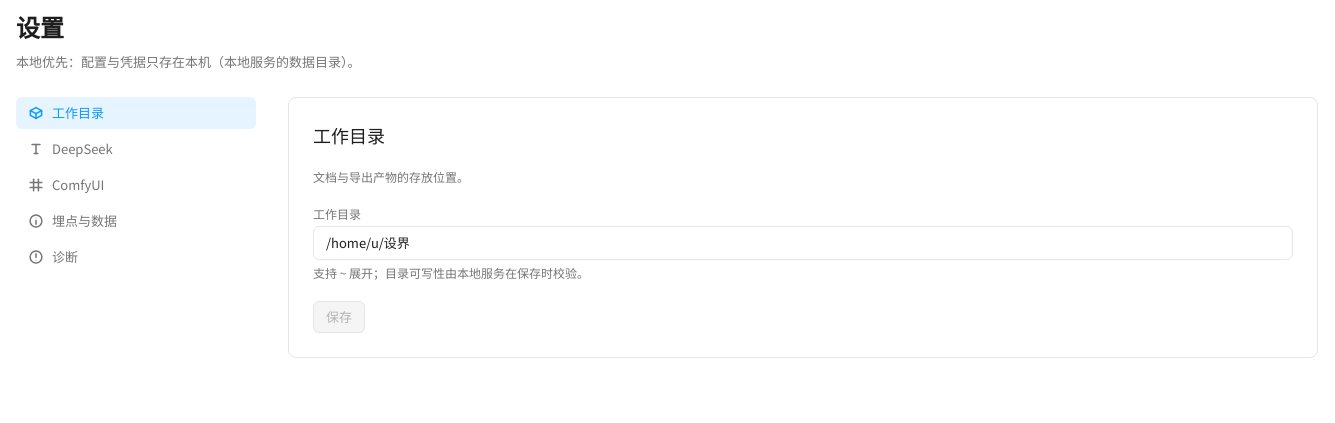
Test: 设置页 · 工作目录与保存态 › 保存失败：原样展示 daemon 文案，重试成功后转已保存
The image size is (1335, 423).
Note: 先制造改动（无改动时保存按钮禁用），再触发失败 → 重试
Type "~/x" into the field labelled "工作目录". click: (803, 243)
box: [326,227,1280,259]
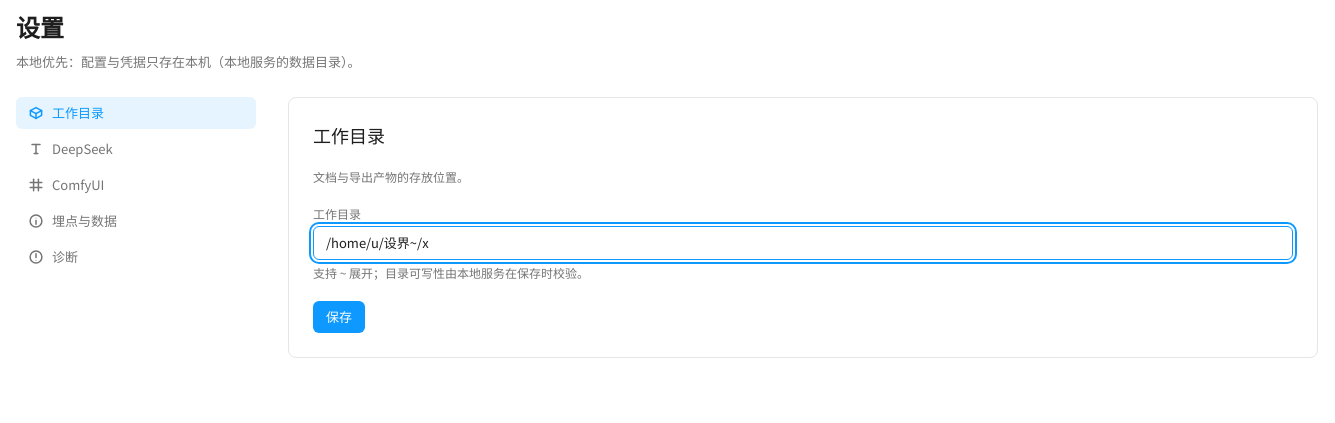
Click the button "保存". click: (339, 317)
box: [313,301,365,333]
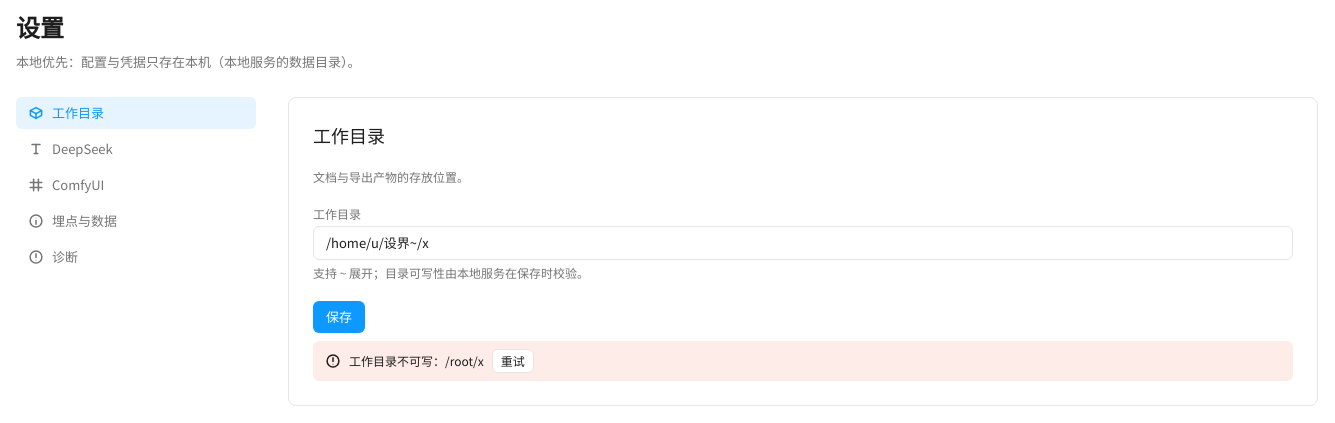
expect the text "工作目录不可写：/root/x" is shown: met, box [349,352,484,369]
Click the button "重试". click: (513, 361)
box: [492,349,534,373]
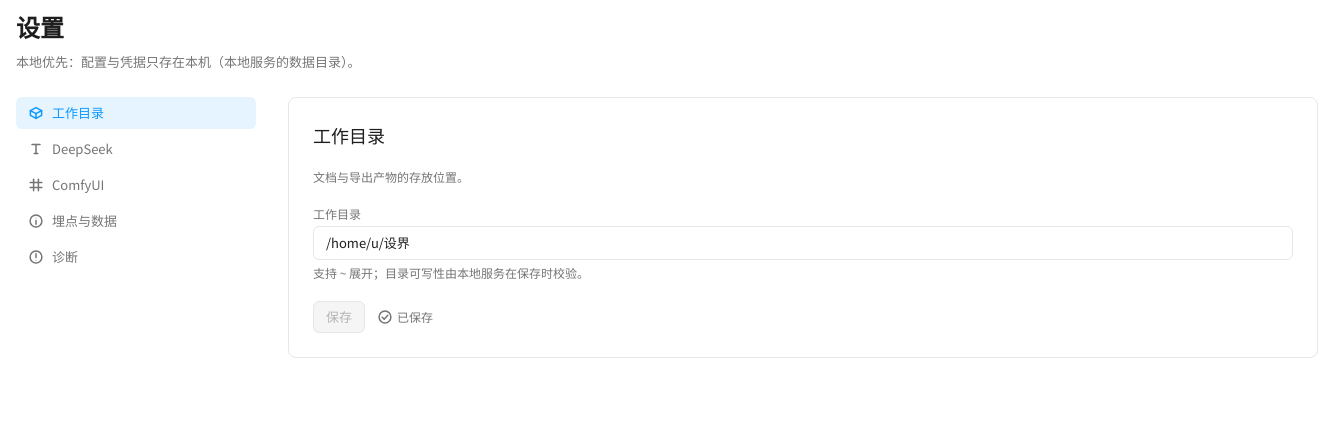
expect the text "已保存" is shown: met, box [377,308,433,325]
